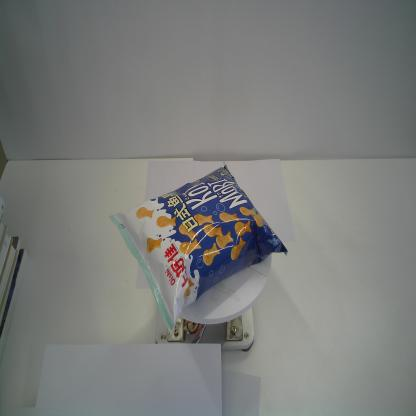Puffed Food: (108, 161, 288, 333)
